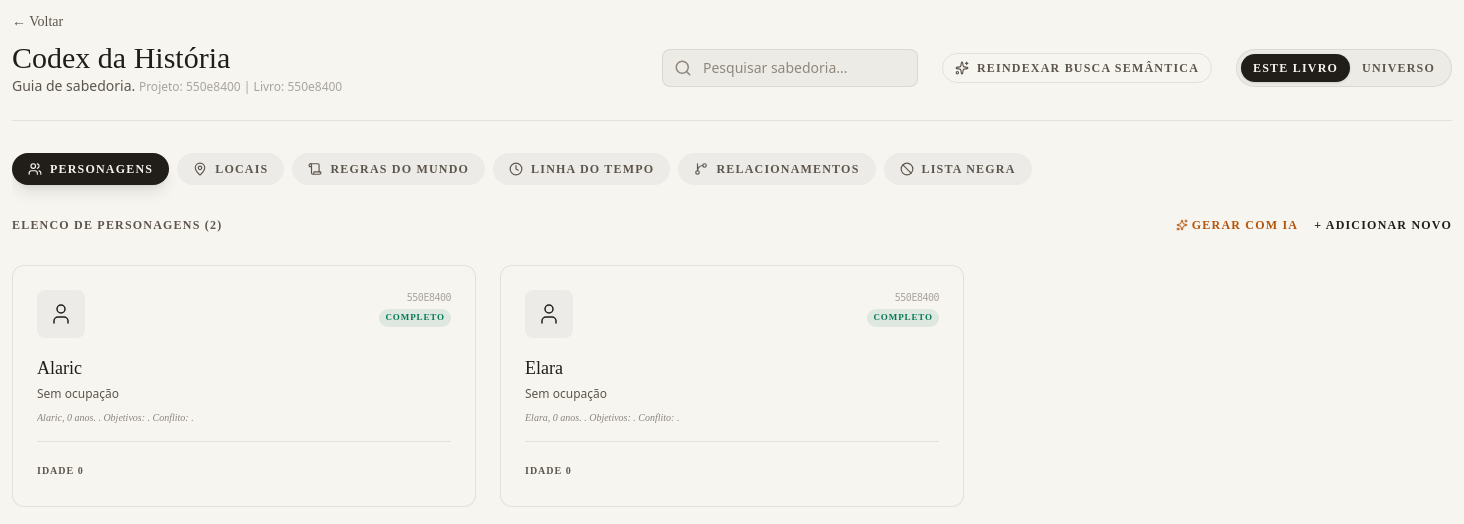
CodexDashboard UX › error states › should show an error state with retry when search fails
The width and height of the screenshot is (1464, 524).
Step 1. Type "Alaric" into the field with placeholder "Pesquisar sabedoria..." → (790, 68), box [662,49,918,87]
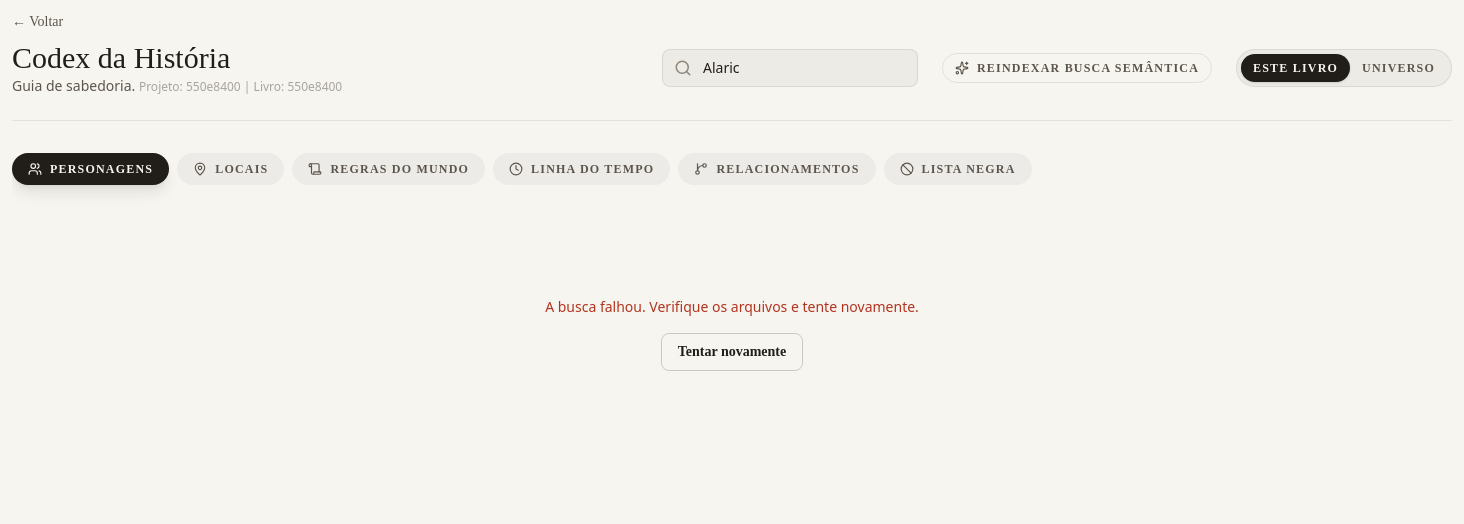
Expected: the text "A busca falhou. Verifique os arquivos e tente novamente." is shown, [545,297,919,317]
Step 2. Click the button "Tentar novamente" → (732, 352), box [661,333,803,371]
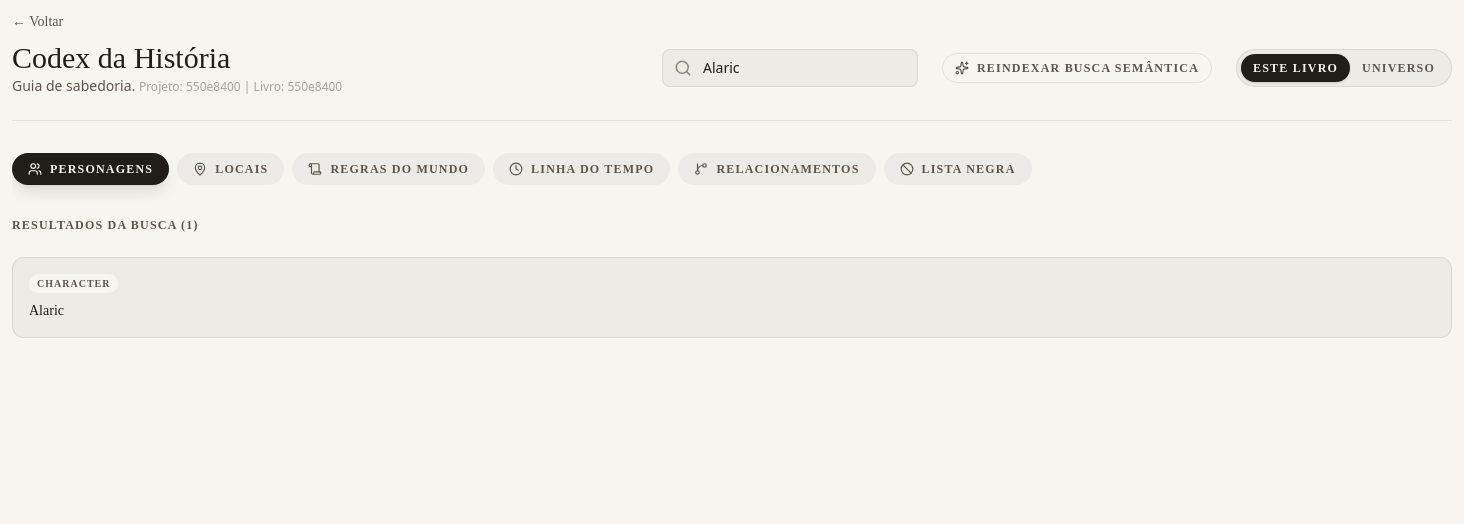
Expected: the heading "Resultados da Busca (1)" is shown, [12,218,199,232]
Expected: the text "Alaric" is shown, [29,303,64,318]
